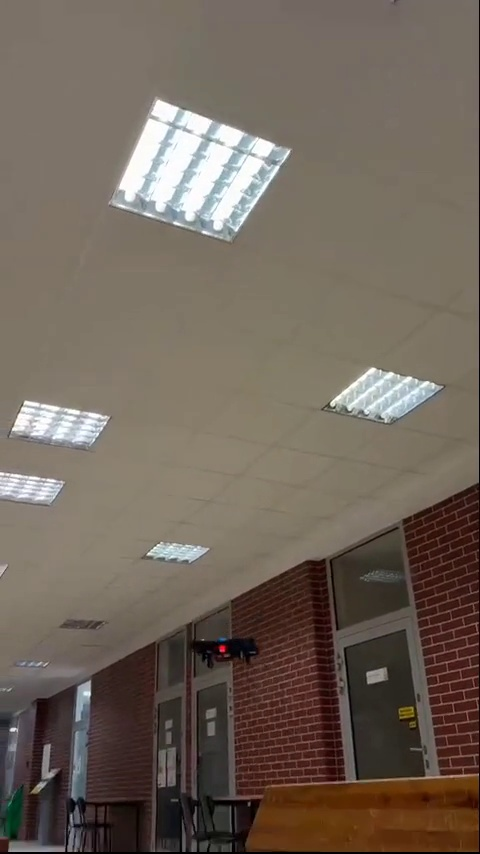drone: (188, 631, 265, 676)
